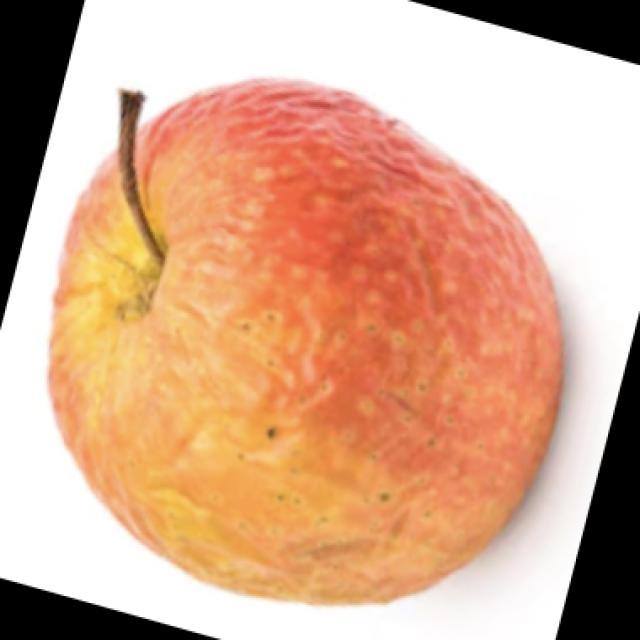Rotten: (40, 80, 570, 615)
